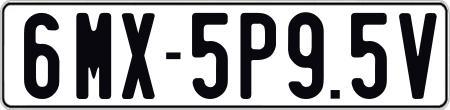5: (192, 10, 231, 102), (351, 10, 390, 98)
6: (21, 12, 57, 102)
9: (285, 9, 322, 100)
M: (73, 13, 113, 101)
P: (240, 10, 278, 98)
V: (397, 13, 432, 104)
X: (119, 13, 158, 99)
